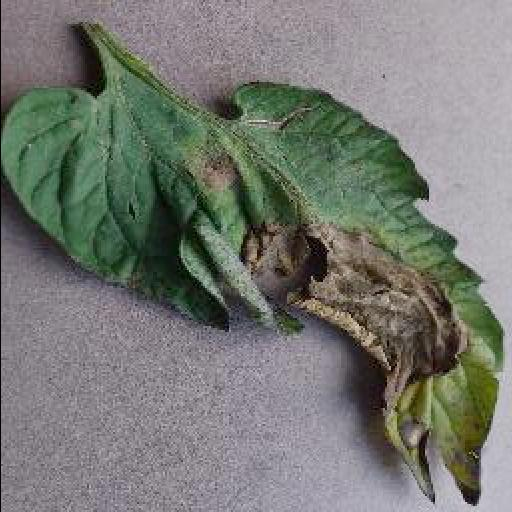disease_tomato: (0, 82, 506, 510)
